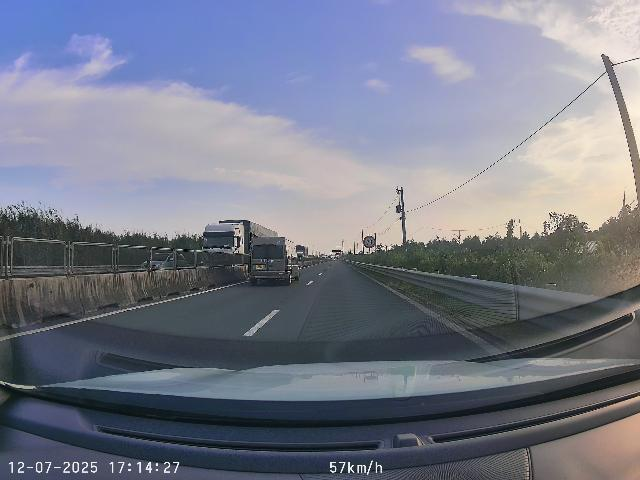127-toc-do-toi-da-70: (363, 235, 376, 249)
